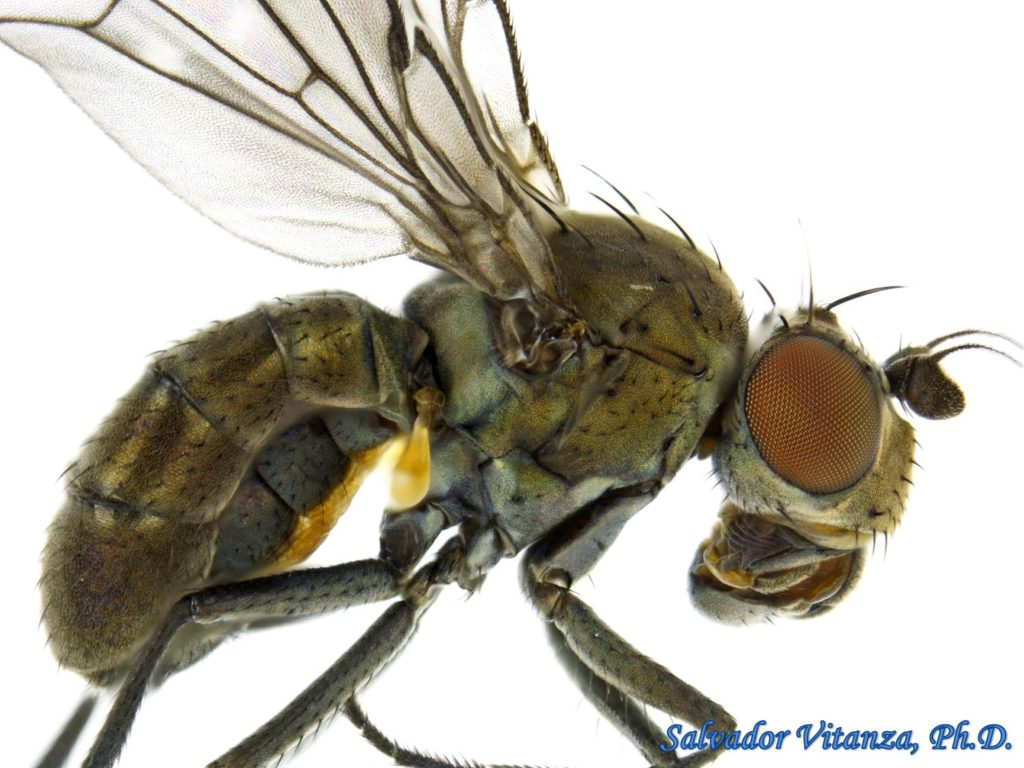Ephydridae: (1, 1, 1021, 763)
